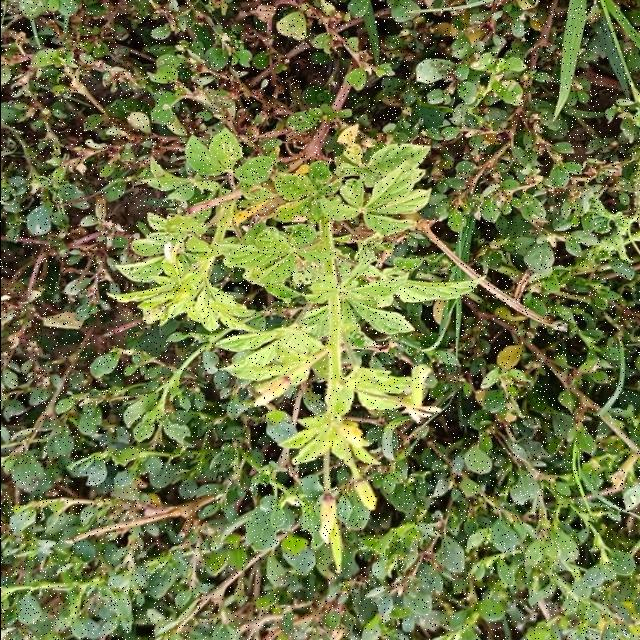weed: (110, 127, 475, 559)
